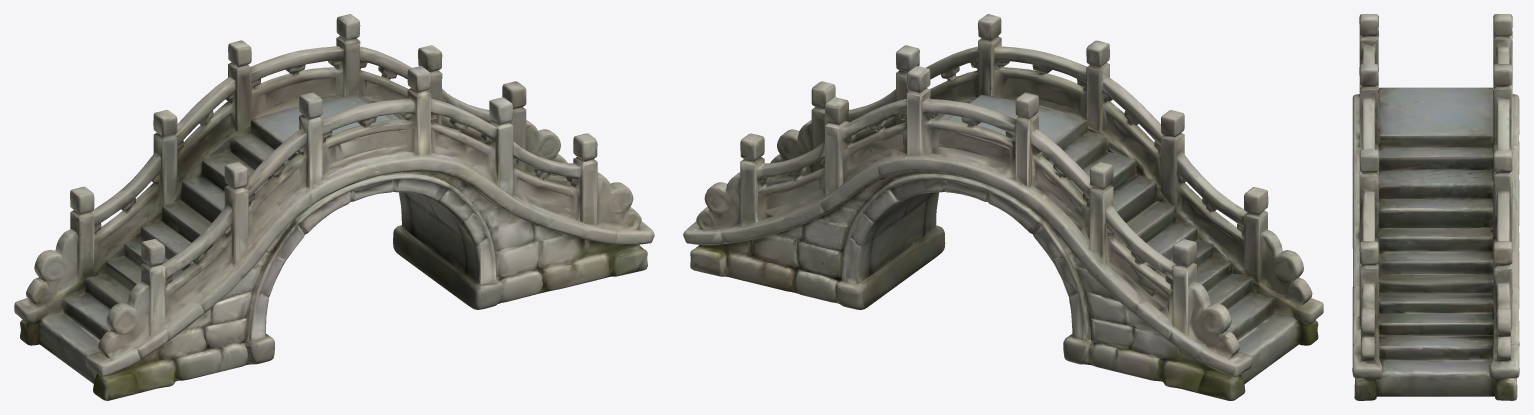
The model's file is ShiGongQiao.glb.
3 views of the same model, side by side, from view 1: azimuth 30°, elevation 25°; view 2: azimuth 150°, elevation 25°; view 3: azimuth 270°, elevation 25° (orthographic). The views are drawn at different scales.
Parts seen in each view (by area): view 1: node_0; view 2: node_0; view 3: node_0.
Boxes of the visible parts, bbox=[...] form: node_0: bbox=[14, 14, 654, 400]; node_0: bbox=[683, 14, 1323, 400]; node_0: bbox=[1352, 14, 1519, 400].
Size of the model in its own units: 1.1 by 0.4699 by 0.3032.
Materials: 1 (1 with a texture image).
